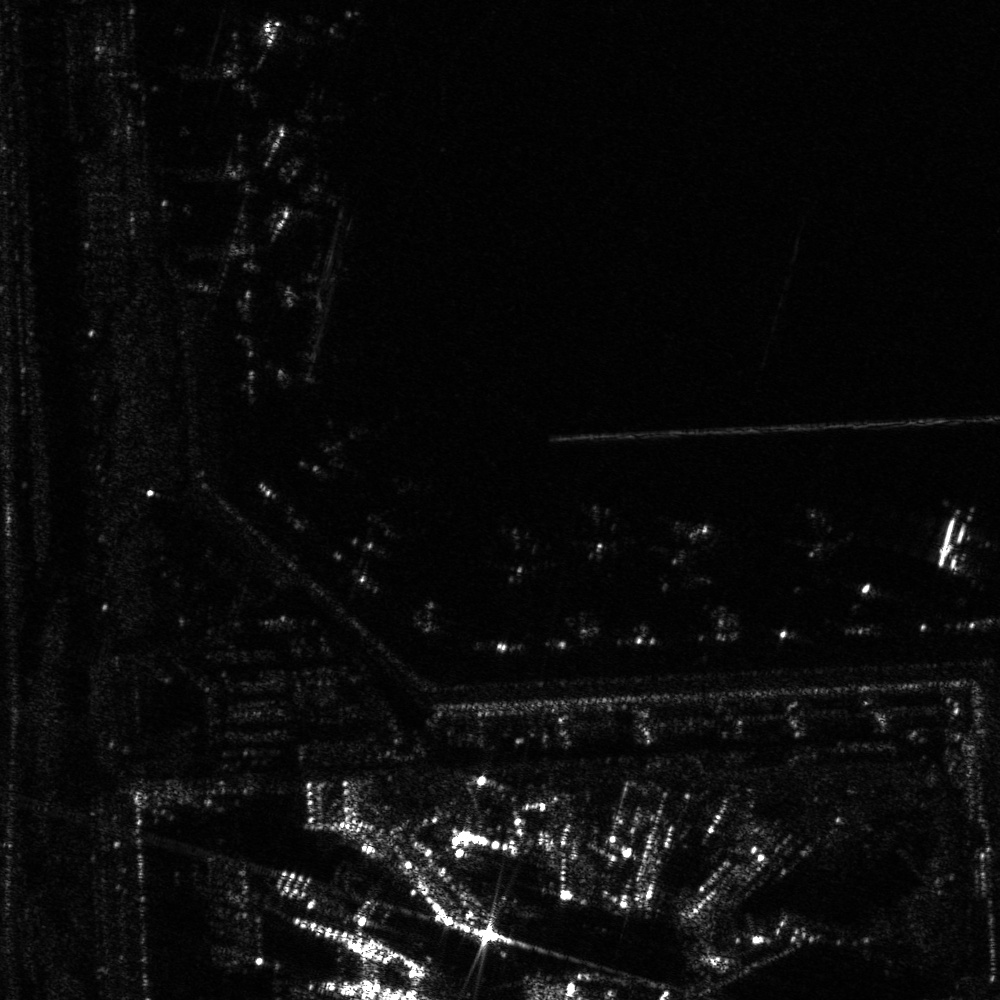A220: (279, 418, 400, 483), (554, 500, 649, 568)
A320/321: (254, 71, 370, 168)
Boeing737: (467, 526, 573, 590)
Boeing787: (907, 499, 992, 591), (774, 497, 868, 560)
other: (635, 513, 723, 604)
